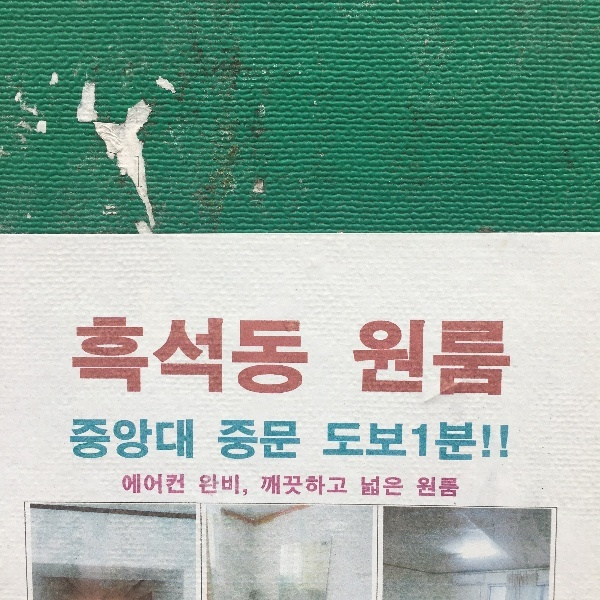text: (353, 304, 368, 407), (369, 304, 384, 407), (385, 304, 400, 407), (401, 304, 416, 407), (417, 304, 432, 407), (433, 304, 448, 407), (449, 304, 464, 407), (465, 304, 480, 407), (481, 304, 496, 407), (497, 304, 512, 407), (81, 303, 96, 405), (97, 303, 112, 405), (113, 303, 128, 405), (129, 303, 144, 405), (145, 303, 160, 405), (161, 303, 176, 405), (177, 303, 192, 405), (193, 303, 208, 405), (209, 303, 224, 405), (225, 303, 240, 405), (241, 303, 256, 405), (257, 303, 272, 405), (273, 303, 288, 405), (289, 303, 304, 405), (513, 304, 523, 407), (71, 303, 80, 405), (305, 303, 313, 405), (81, 412, 96, 466), (97, 412, 112, 466), (113, 412, 128, 466), (129, 412, 144, 466), (145, 412, 160, 466), (161, 412, 176, 466), (177, 412, 192, 466), (225, 411, 240, 464), (241, 411, 256, 464), (257, 411, 272, 464), (273, 411, 288, 464), (289, 411, 304, 464), (321, 413, 336, 464), (337, 413, 352, 464), (353, 413, 368, 464), (369, 413, 384, 464), (385, 413, 400, 464), (401, 413, 416, 464), (417, 413, 432, 464), (433, 413, 448, 464), (449, 413, 464, 464), (465, 413, 480, 464), (481, 413, 496, 464), (497, 413, 512, 464), (66, 412, 80, 466), (257, 470, 272, 504), (273, 470, 288, 504), (289, 470, 304, 504), (305, 470, 320, 504), (321, 470, 336, 504), (449, 472, 465, 503), (209, 470, 224, 503), (225, 470, 240, 503), (215, 411, 224, 464), (337, 470, 351, 504), (369, 472, 384, 503), (385, 472, 400, 503), (417, 472, 432, 503), (433, 472, 448, 503), (129, 471, 144, 500), (145, 471, 160, 500), (161, 471, 176, 500), (196, 470, 208, 503), (177, 471, 189, 500), (357, 472, 368, 503), (241, 470, 251, 503), (193, 412, 199, 466), (120, 471, 128, 500), (513, 413, 516, 464), (305, 411, 307, 464), (401, 472, 404, 503), (414, 472, 416, 503), (255, 470, 256, 504)
